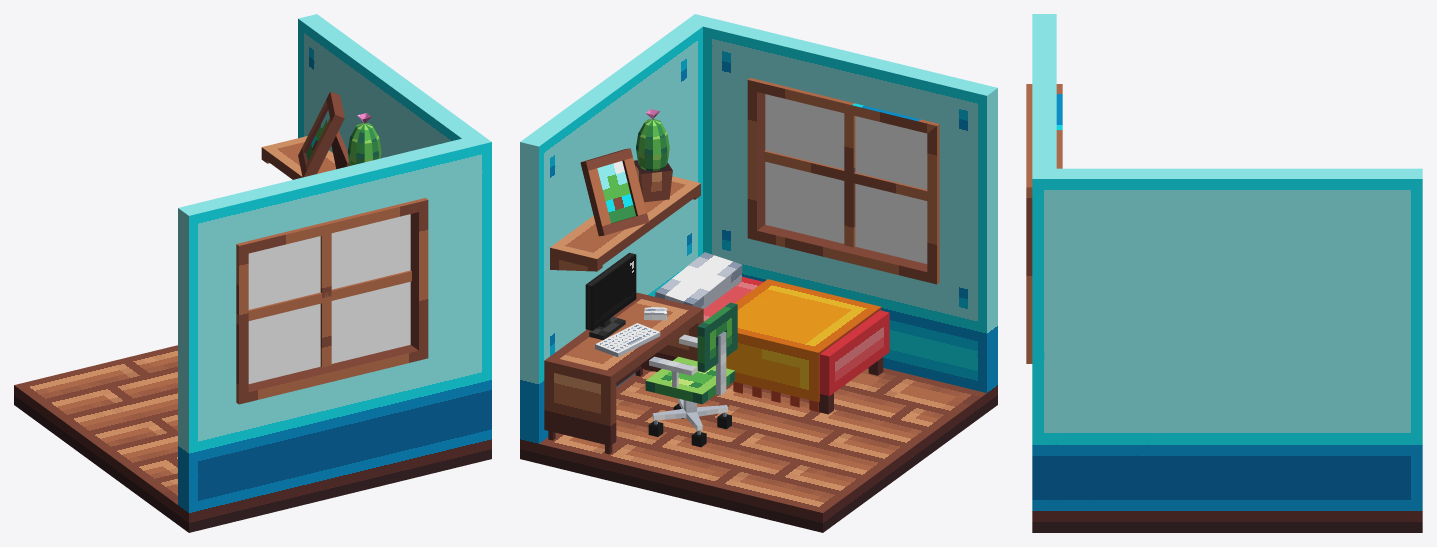
The picture shows the model from 3 angles, left to right: view 1: azimuth 30°, elevation 25°; view 2: azimuth 150°, elevation 25°; view 3: azimuth 270°, elevation 25°; orthographic projection. The views are drawn at different scales.
Visible parts, largest first — view 1: cube (×7), sphere; view 2: cube (×16), plane, sphere; view 3: cube (×2).
Boxes of the visible parts, x1=… form: cube (×7): x1=14, y1=14, x2=491, y2=532; sphere: x1=347, y1=123, x2=381, y2=165; cube (×16): x1=520, y1=14, x2=997, y2=532; plane: x1=715, y1=279, x2=881, y2=411; sphere: x1=636, y1=119, x2=669, y2=171; cube (×2): x1=1026, y1=14, x2=1422, y2=532.
Size of the model in its own units: 2 by 2 by 2.03.
Materials: 12 (12 with a texture image).
